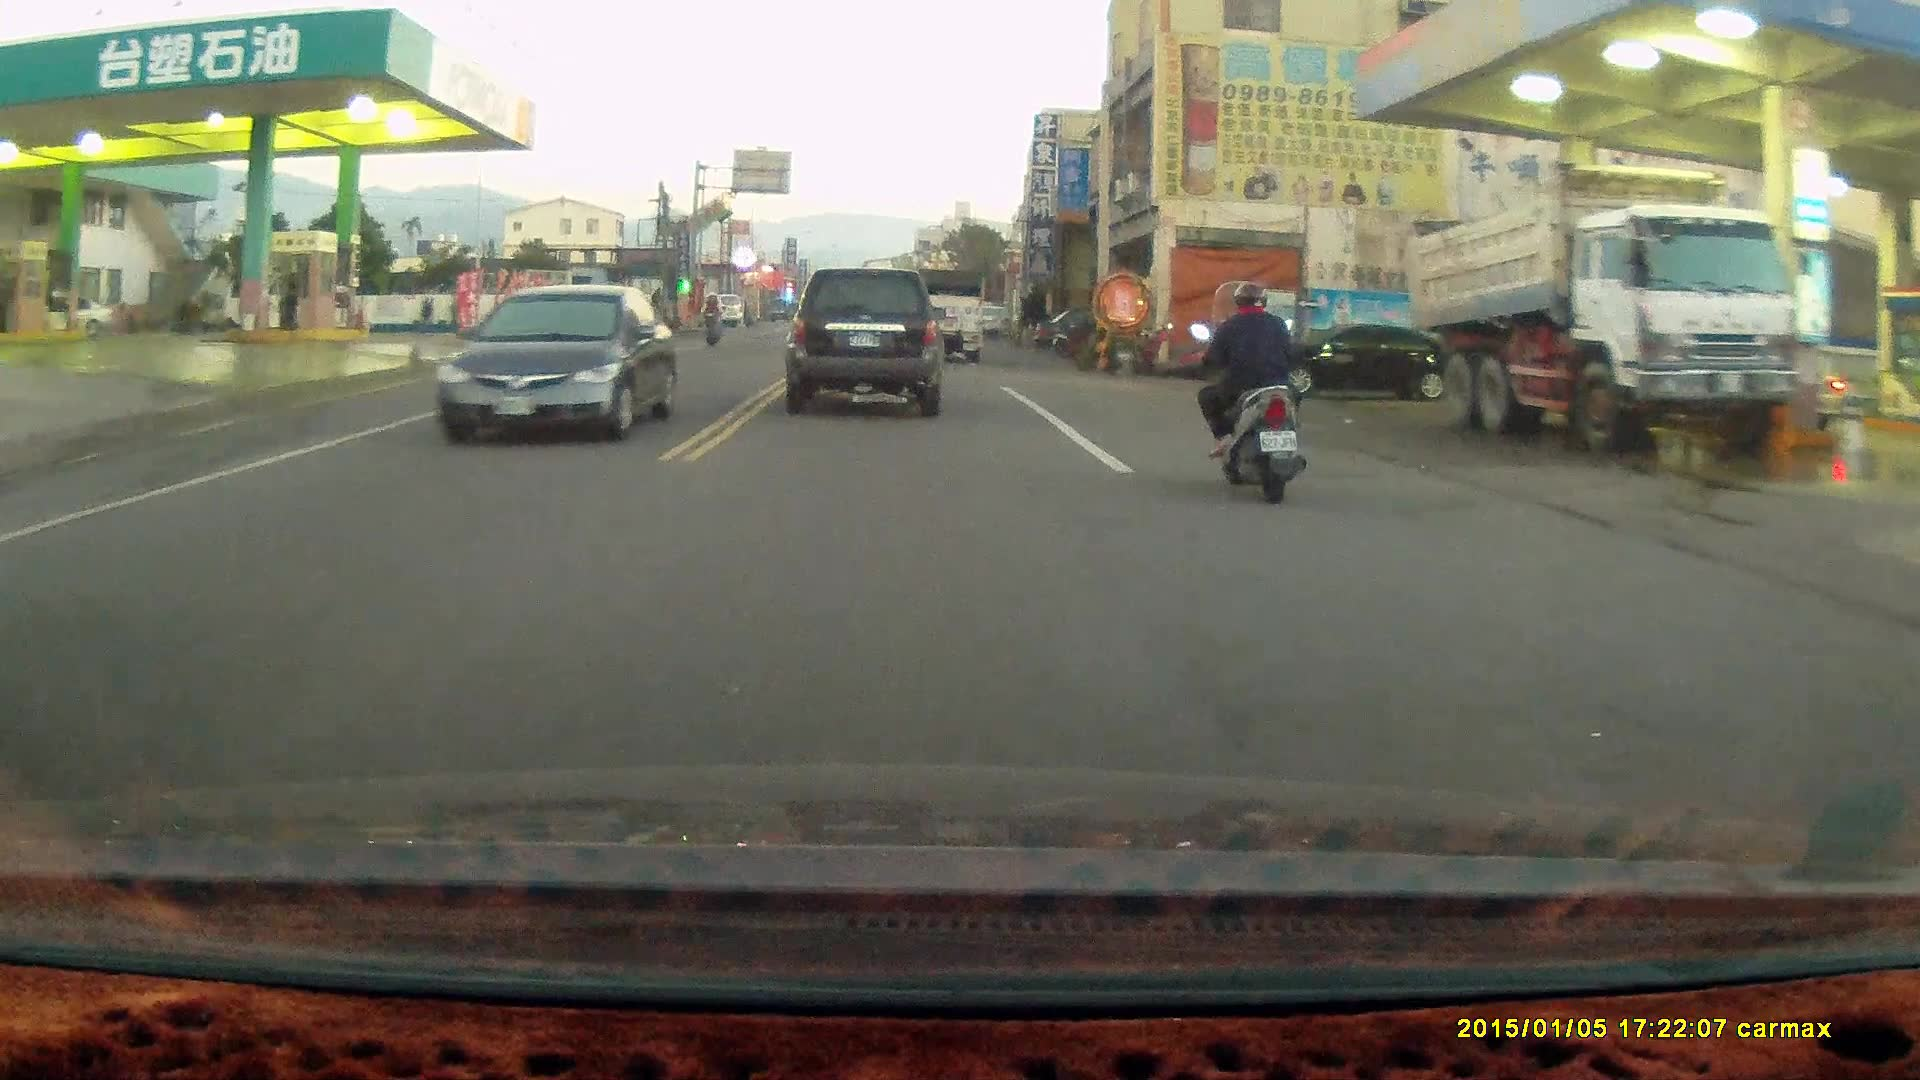rider: (1188, 277, 1306, 505), (696, 288, 725, 347)
vehicle: (1406, 157, 1800, 455), (440, 282, 677, 446), (785, 263, 948, 414), (1280, 324, 1445, 403), (907, 265, 989, 364)
